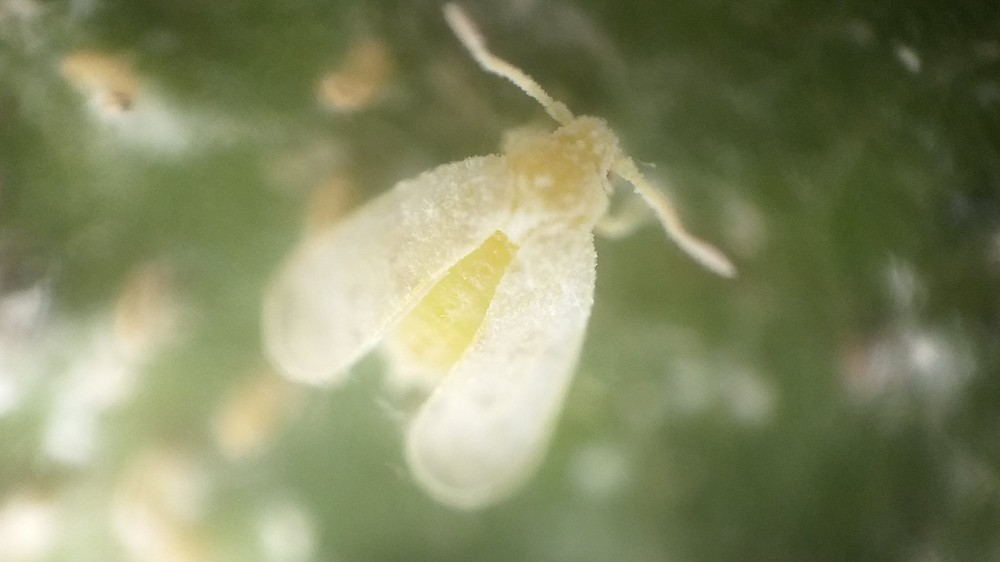Mosca Blanca: (250, 15, 742, 515)
